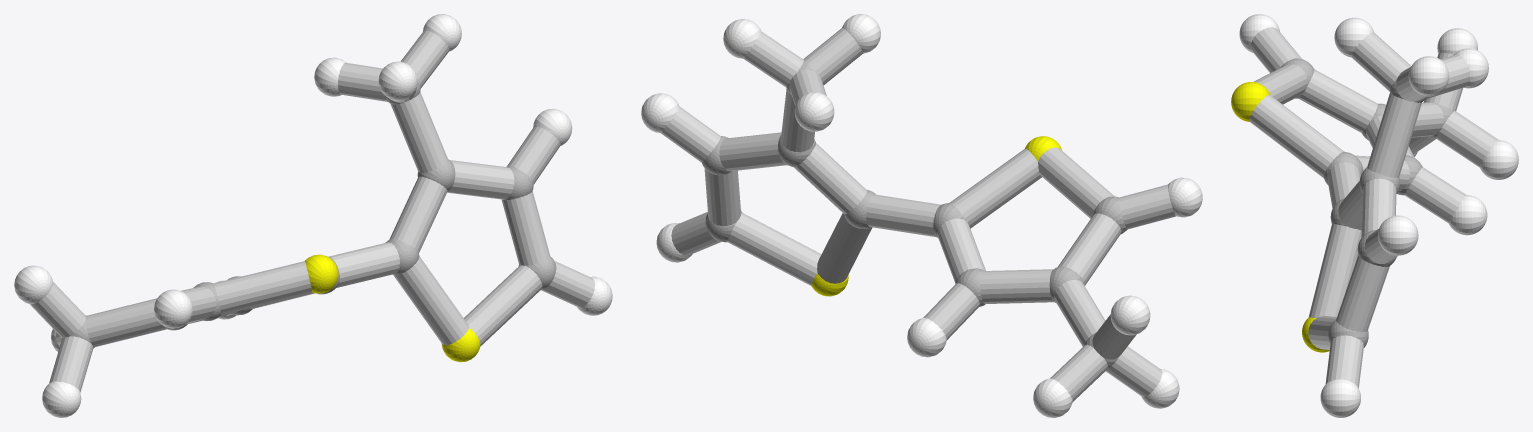
Rendered from color.glb.
3 renders of one model, left to right at view 1: azimuth 30°, elevation 25°; view 2: azimuth 150°, elevation 25°; view 3: azimuth 270°, elevation 25°, orthographic. The views are drawn at different scales.
Parts seen in each view (by area): view 1: grp7965, grp3621, grp1, grp7241; view 2: grp7965, grp3621, grp1, grp7241; view 3: grp7965, grp3621, grp1, grp7241.
Boxes of the visible parts, bbox=[...] form: grp7965: bbox=[30, 30, 595, 392]; grp3621: bbox=[14, 14, 612, 417]; grp1: bbox=[61, 82, 556, 348]; grp7241: bbox=[305, 254, 480, 362]; grp7965: bbox=[661, 27, 1175, 402]; grp3621: bbox=[641, 14, 1202, 417]; grp1: bbox=[702, 61, 1127, 368]; grp7241: bbox=[811, 136, 1062, 296]; grp7965: bbox=[1249, 27, 1498, 388]; grp3621: bbox=[1239, 14, 1518, 417]; grp1: bbox=[1280, 58, 1454, 347]; grp7241: bbox=[1231, 82, 1329, 352].
Bounding box in the file's own units: 9.48 × 5.04 × 4.25.
